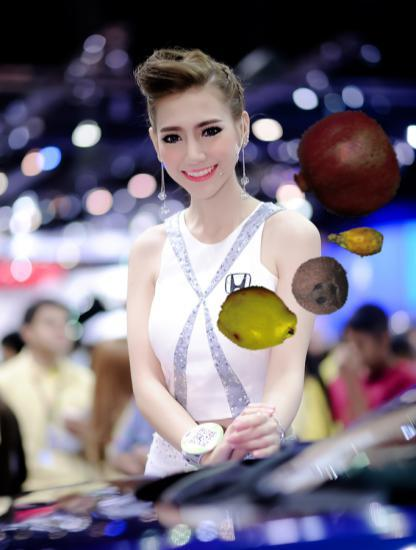Cactus: (327, 212, 385, 270)
Cocos: (289, 244, 364, 319)
Pomegranate: (290, 111, 401, 222)
Quince: (217, 280, 299, 362)
